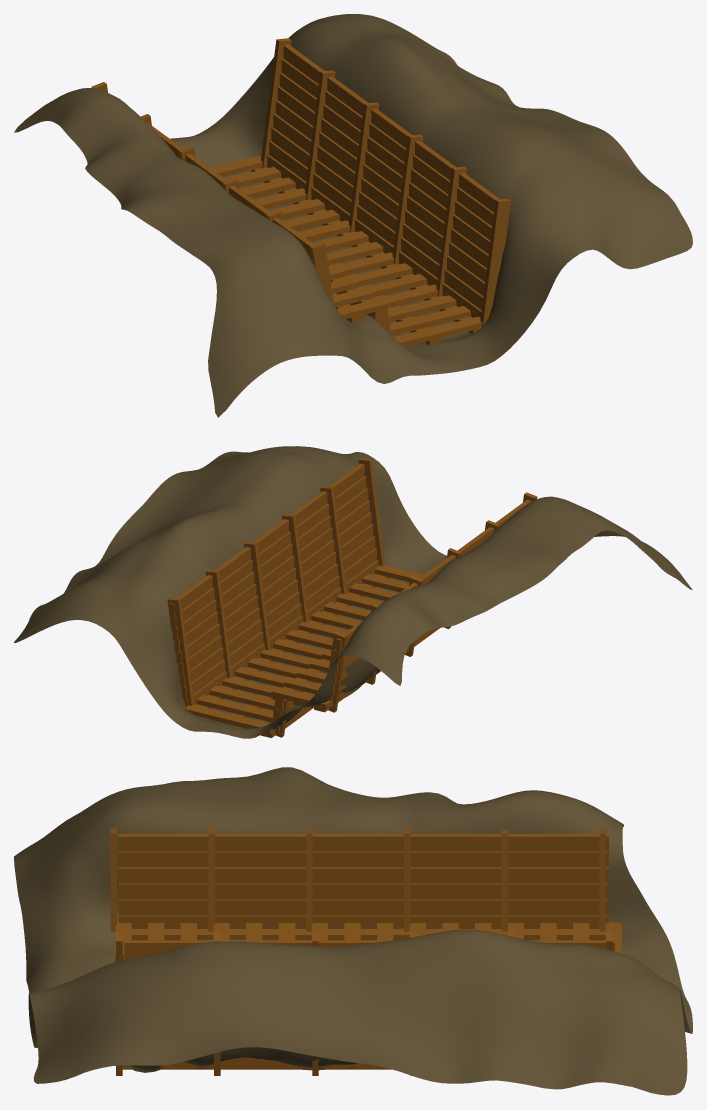
The model's file is Trinchera_Low_Poly.fbx.
3 views of the same model, one above another, from view 1: azimuth 30°, elevation 25°; view 2: azimuth 150°, elevation 25°; view 3: azimuth 270°, elevation 25° (orthographic). The views are drawn at different scales.
Visible parts, largest first — view 1: ground, Cube_8, Cube_1, Cube_2, Cube_3, Cube_4, Cube_5, Cube_6, Cube_7, Cube_0, Cube_5_0, Cube_5_3_2 (+17 smaller); view 2: ground, Cube_8, Cube_1, Cube_2, Cube_3, Cube_4, Cube_5, Cube_6, Cube_7, Cube_0, Cube_5_3_2, Cube_5_0 (+21 smaller); view 3: ground, Cube_5_3_2, Cube_1_3, Cube_2_3, Cube_3_3, Cube_4_3, Cube_0_3, Cube_2_7, Cube_8, Cube_0, Cube_4_2, Cube_5_2_2 (+5 smaller).
Part boxes in pixels (x1,y1,x2,y2): ground: [14, 14, 692, 417]; Cube_8: [283, 44, 500, 212]; Cube_1: [269, 141, 483, 309]; Cube_2: [271, 127, 484, 295]; Cube_3: [273, 113, 486, 281]; Cube_4: [275, 100, 488, 268]; Cube_5: [277, 86, 490, 254]; Cube_6: [279, 72, 491, 240]; Cube_7: [281, 59, 493, 226]; Cube_0: [267, 155, 481, 317]; Cube_5_0: [480, 198, 510, 327]; Cube_5_3_2: [102, 90, 314, 260]; ground: [14, 446, 692, 738]; Cube_8: [169, 464, 364, 615]; Cube_1: [181, 548, 376, 699]; Cube_2: [180, 536, 375, 687]; Cube_3: [178, 524, 373, 675]; Cube_4: [176, 512, 371, 663]; Cube_5: [174, 500, 369, 651]; Cube_6: [173, 488, 368, 639]; Cube_7: [171, 476, 366, 627]; Cube_0: [183, 560, 378, 706]; Cube_5_3_2: [336, 499, 531, 651]; Cube_5_0: [358, 458, 384, 566]; ground: [14, 767, 692, 1095]; Cube_5_3_2: [118, 834, 608, 851]; Cube_1_3: [118, 899, 608, 915]; Cube_2_3: [118, 883, 608, 899]; Cube_3_3: [118, 867, 608, 883]; Cube_4_3: [118, 851, 608, 867]; Cube_0_3: [118, 915, 608, 928]; Cube_2_7: [131, 929, 605, 940]; Cube_8: [124, 940, 614, 957]; Cube_0: [124, 1057, 383, 1067]; Cube_4_2: [501, 829, 508, 931]; Cube_5_2_2: [599, 828, 605, 931].
Size of the model in its own units: 1962 by 628 by 2077.
